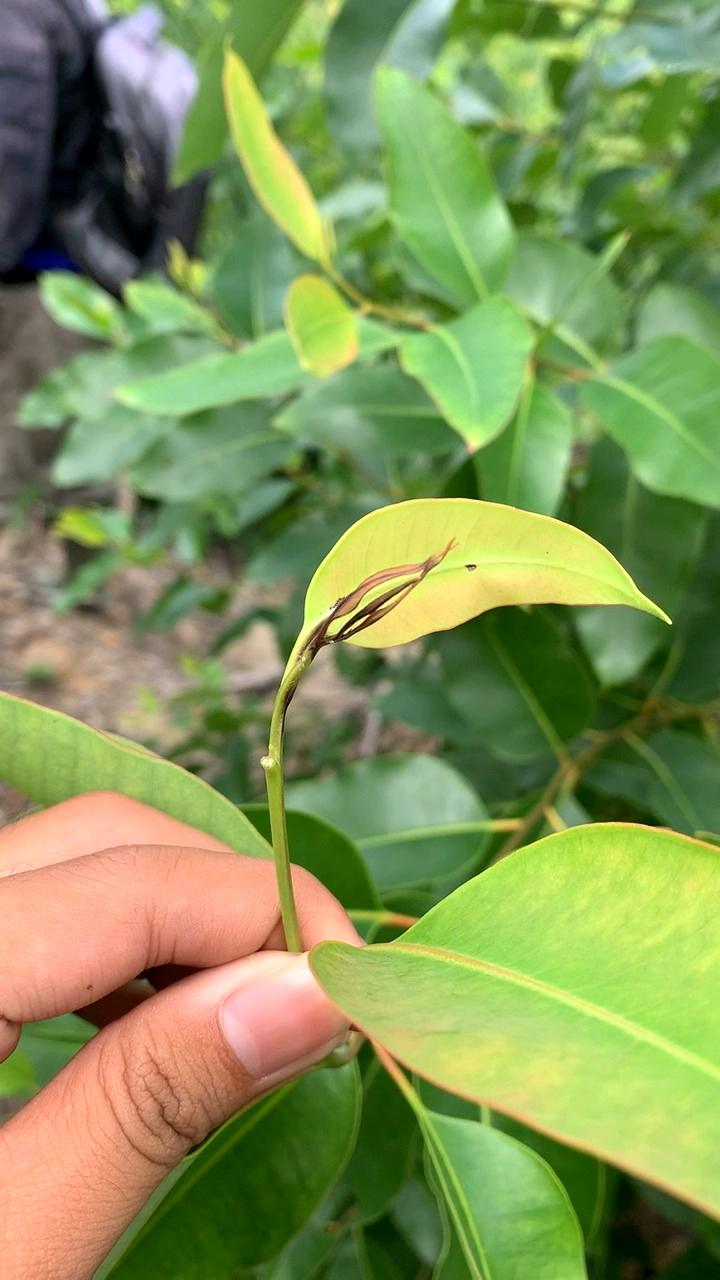Helopeltis-Withered Sprout: (281, 524, 471, 698)
